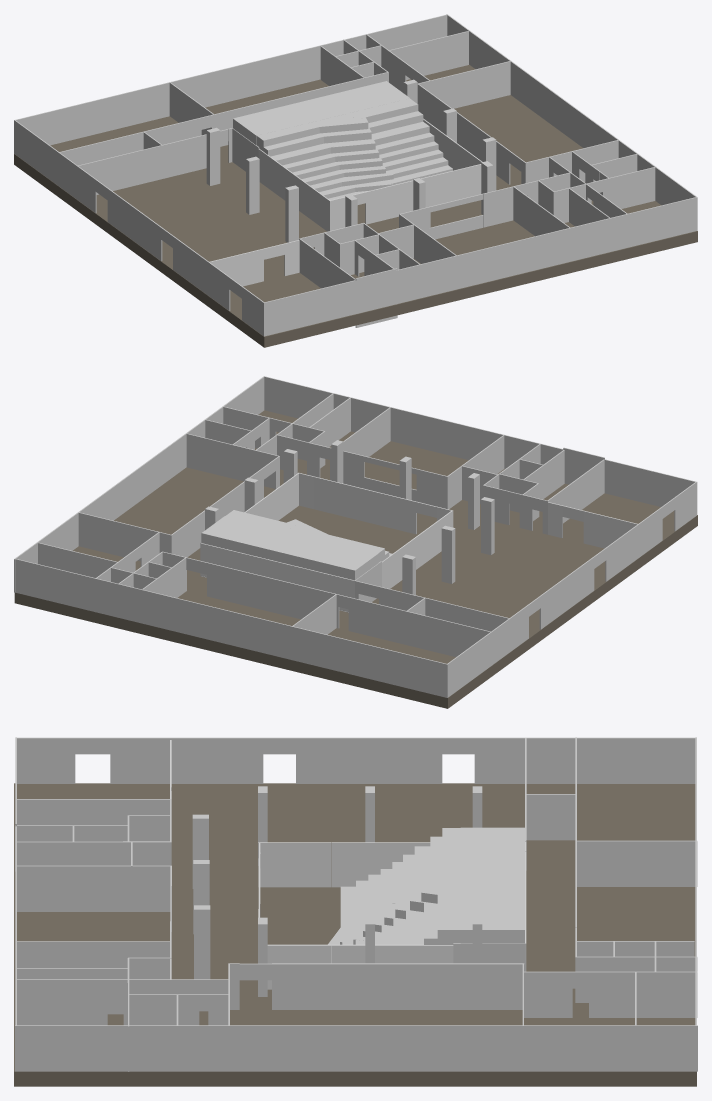
File: Canteen 2.0.fbx
3 renders of one model, top to bottom at view 1: azimuth 30°, elevation 25°; view 2: azimuth 150°, elevation 25°; view 3: azimuth 270°, elevation 25°, orthographic. The views are drawn at different scales.
Parts seen in each view (by area): view 1: Cube.001, Cube.094, Cube.115, Cube.117, Cube.130, Cube.096, Cube.138, Cube.132, Cube.109, Cube.125, Cube.142, Cube.116 (+45 smaller); view 2: Cube.001, Cube.115, Cube.094, Cube.117, Cube.096, Cube.132, Cube.136, Cube.118, Cube.138, Cube.109, Cube.130, Cube.125 (+35 smaller); view 3: Cube.001, Cube.117, Cube.125, Cube.109, Cube.096, Cube.116, Cube.131, Cube.102, Cube.098, Cube.144, Cube.040, Cube.108 (+53 smaller).
Part boxes in pixels (x1,y1,x2,y2): Cube.001: (14,65,697,347); Cube.094: (263,197,696,336); Cube.115: (14,14,447,153); Cube.117: (446,14,697,230); Cube.130: (78,134,206,194); Cube.096: (233,81,410,145); Cube.138: (418,61,510,108); Cube.132: (58,117,201,185); Cube.109: (14,120,77,199); Cube.125: (417,83,510,184); Cube.142: (389,31,468,79); Cube.116: (107,188,162,261); Cube.001: (14,410,697,708); Cube.115: (14,558,448,697); Cube.094: (264,376,697,515); Cube.117: (14,376,264,592); Cube.096: (201,516,378,580); Cube.132: (348,597,492,665); Cube.136: (207,562,338,628); Cube.118: (186,433,279,488); Cube.138: (78,512,170,561); Cube.109: (447,618,510,696); Cube.130: (379,586,508,631); Cube.125: (170,467,263,557); Cube.001: (14,783,696,1086); Cube.117: (15,1025,697,1071); Cube.125: (272,963,524,1009); Cube.109: (525,737,695,783); Cube.096: (460,827,524,943); Cube.116: (296,737,442,783); Cube.131: (577,840,697,886); Cube.102: (171,737,263,783); Cube.098: (16,979,107,1025); Cube.144: (636,971,697,1017); Cube.040: (110,737,170,783); Cube.108: (17,737,75,783).
Bounding box in the file's own units: 8408 × 1281 × 8414.
